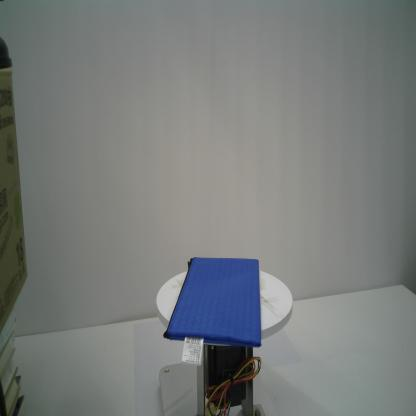Stationery: (163, 256, 263, 371)
